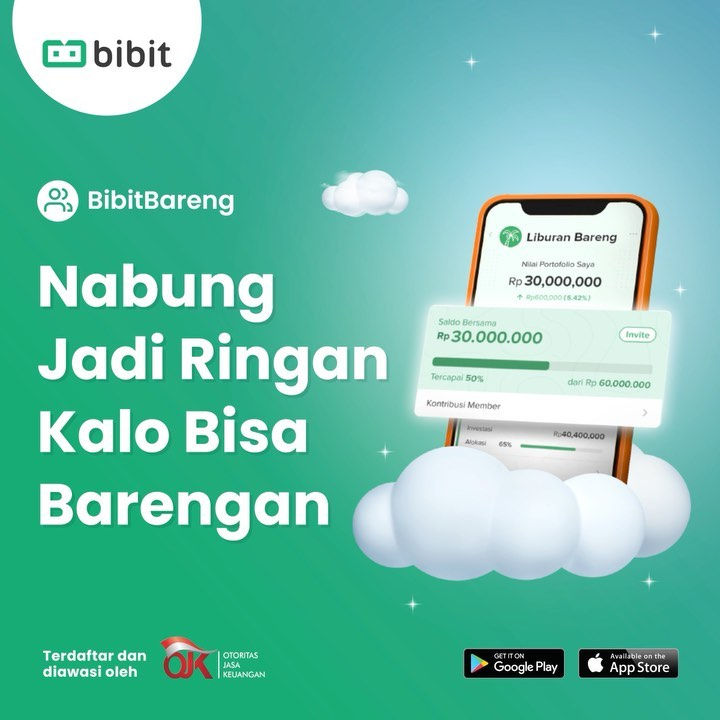ojk: (157, 626, 271, 686)
